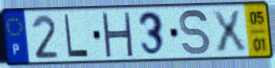2: (30, 13, 61, 60)
3: (136, 9, 169, 59)
H: (99, 12, 135, 59)
L: (63, 12, 91, 59)
S: (178, 7, 212, 57)
X: (209, 9, 249, 55)
